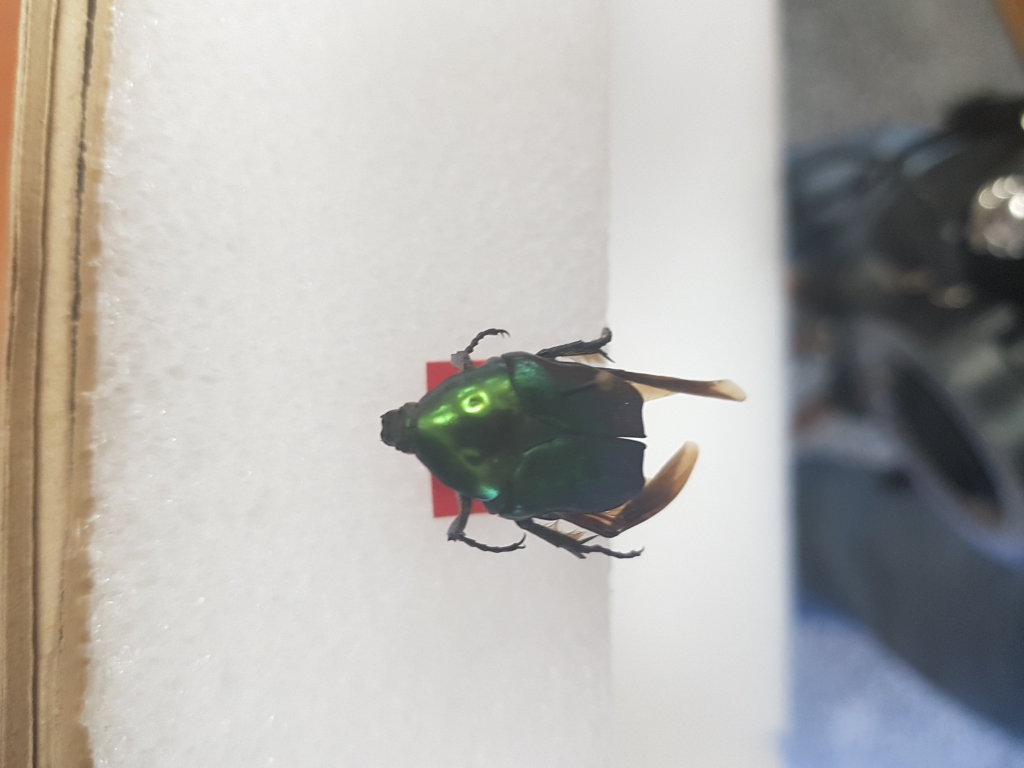Protaetia_besucheti: (385, 312, 758, 563)
